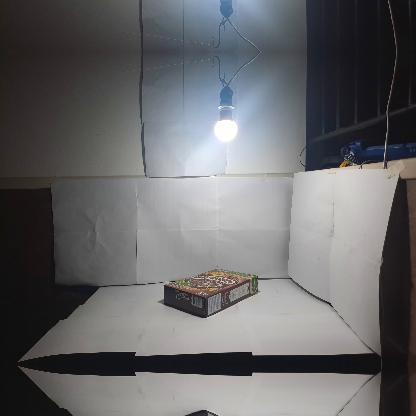Koko-Krunch: (162, 269, 258, 318)
